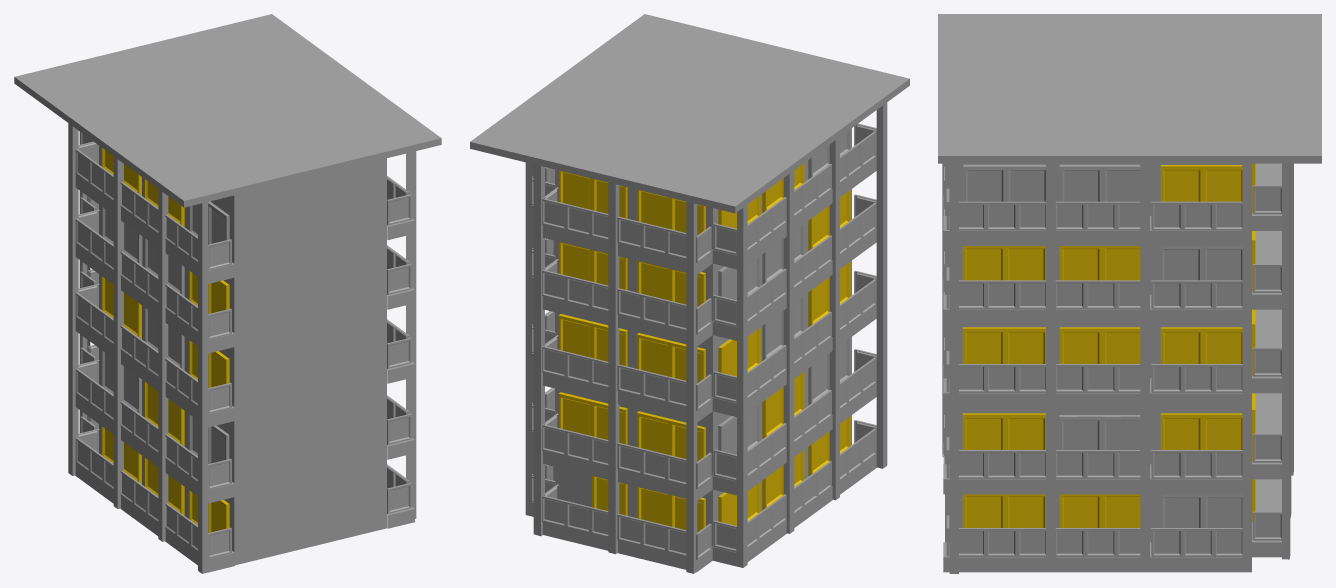
Rendered from Appartment_roof_oneSide.fbx.
The picture shows the model from 3 angles, left to right: view 1: azimuth 30°, elevation 25°; view 2: azimuth 150°, elevation 25°; view 3: azimuth 270°, elevation 25°; orthographic projection. The views are drawn at different scales.
Visible parts, largest first — view 1: polySurface3137; view 2: polySurface3137; view 3: polySurface3137.
Part boxes in pixels (<box>): polySurface3137: <box>14,14,441,573</box>; polySurface3137: <box>470,14,909,573</box>; polySurface3137: <box>938,14,1321,573</box>.
Bounding box in the file's own units: 682 × 962 × 778.
